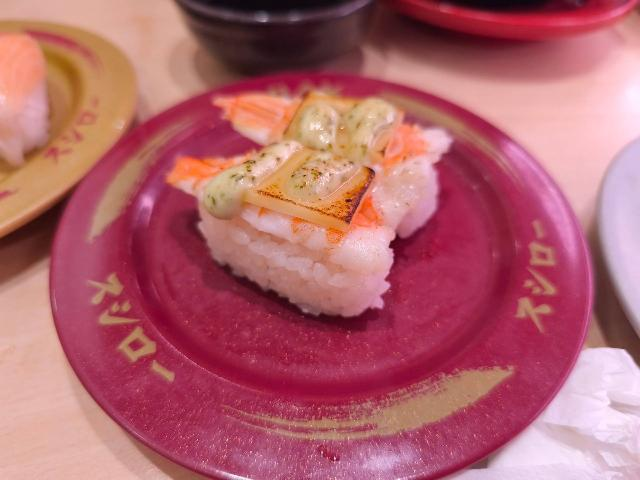jangold: (7, 30, 133, 209)
janred: (63, 102, 573, 466), (401, 10, 635, 33)
janwhite: (582, 176, 640, 356)
